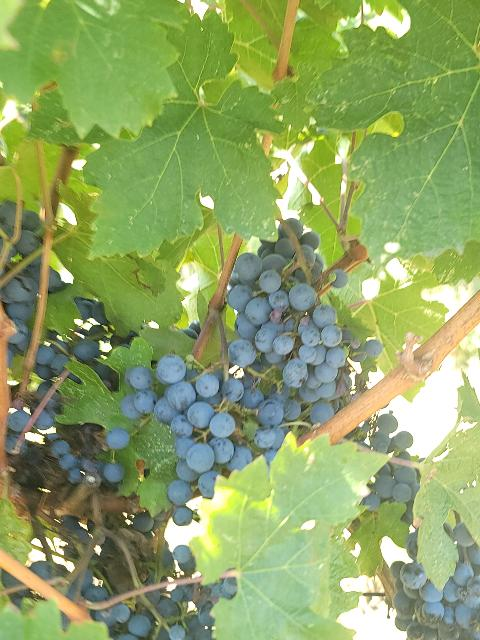grapes: (226, 219, 382, 422), (121, 354, 291, 521)
